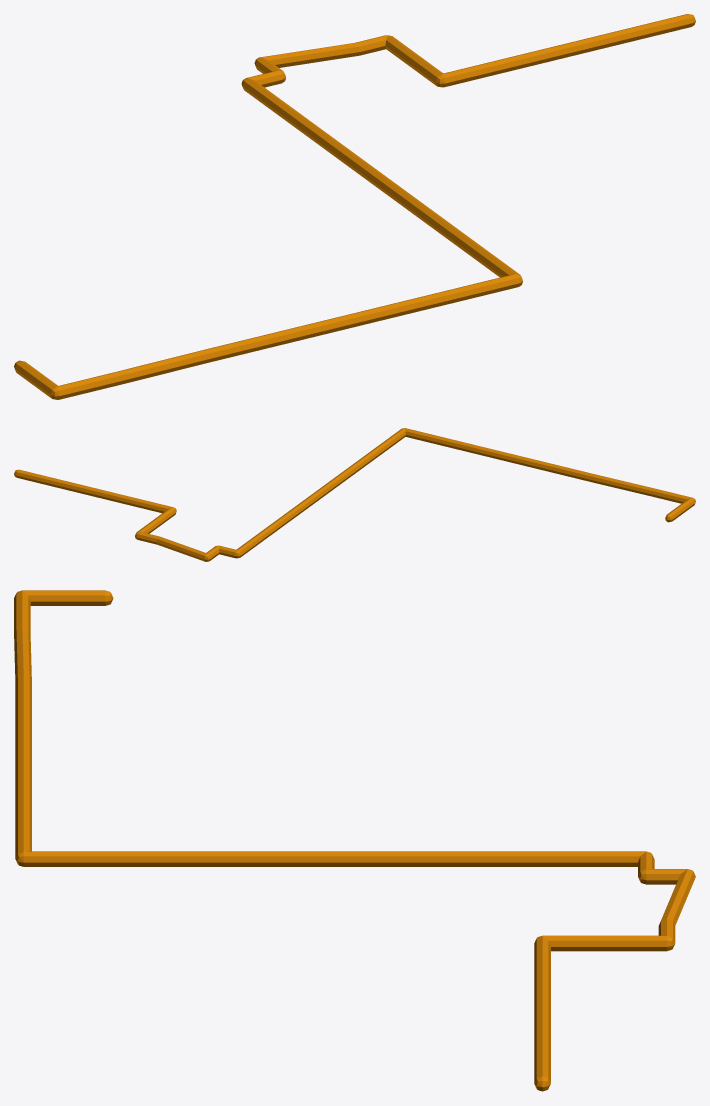
The picture shows the model from 3 angles, top to bottom: view 1: azimuth 30°, elevation 25°; view 2: azimuth 150°, elevation 25°; view 3: azimuth 270°, elevation 25°; orthographic projection. The views are drawn at different scales.
Size of the model in its own units: 1404 by 20 by 822.
